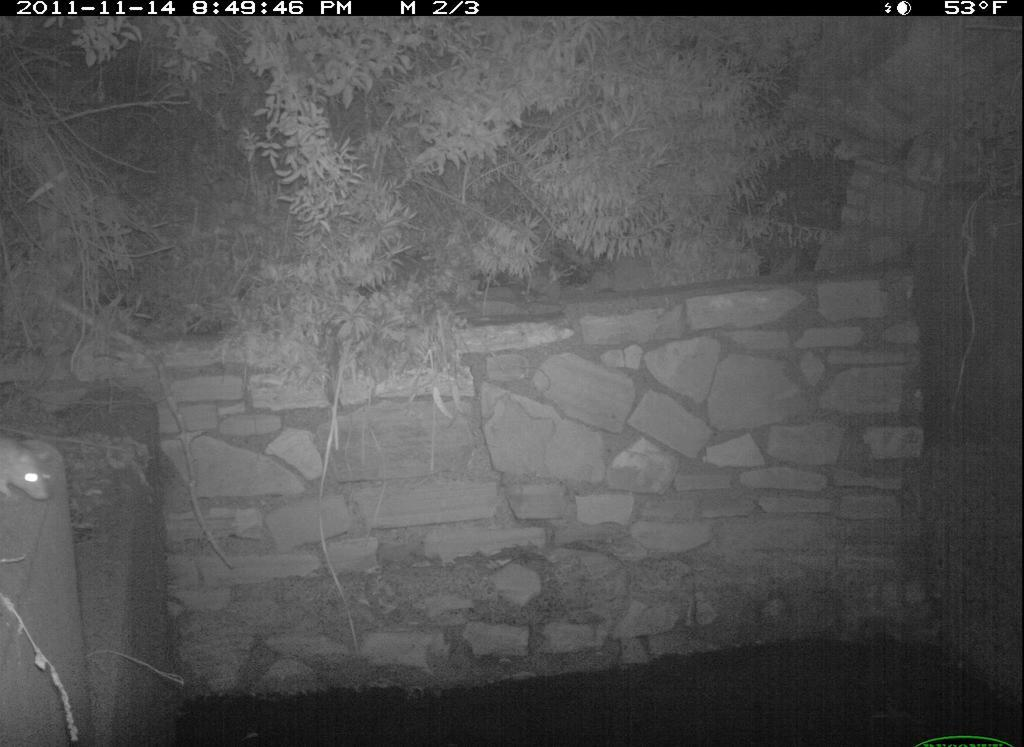rodent: (1, 422, 63, 527)
